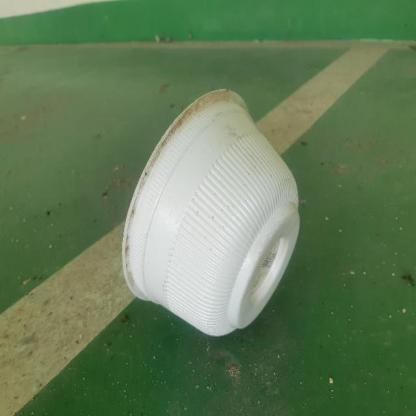Glass Cup: (122, 88, 302, 338), (123, 90, 300, 336)
